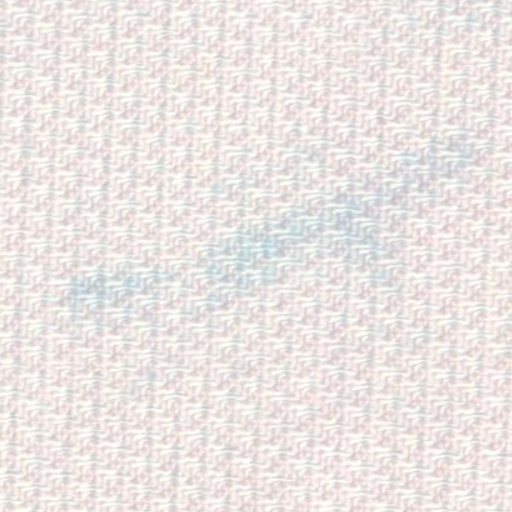WuZi: (58, 126, 494, 382)
